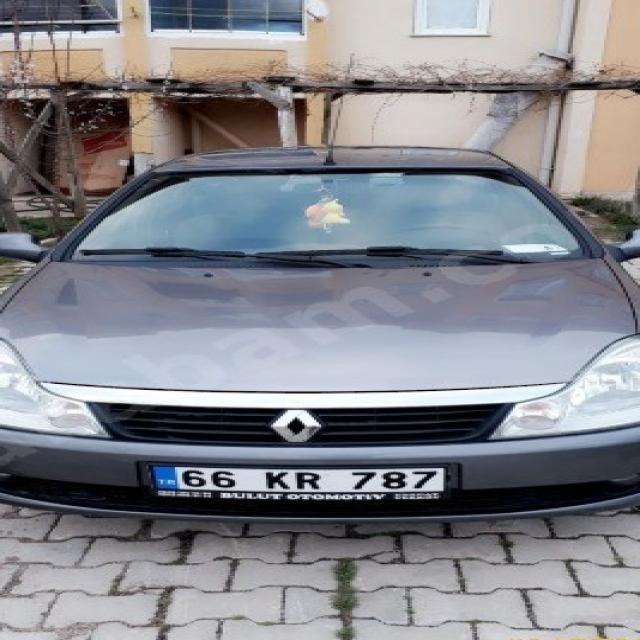license_plate: (145, 464, 452, 494)
